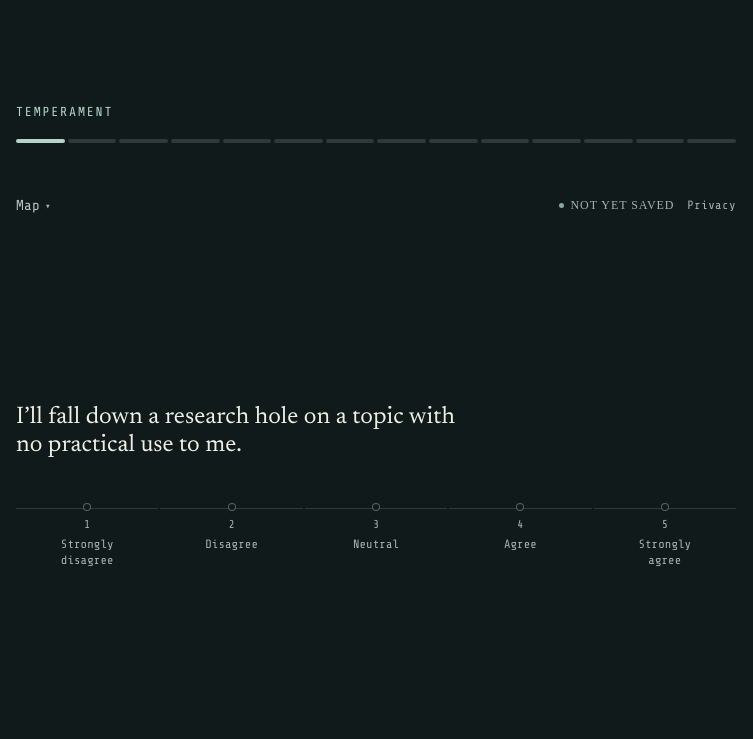
Test: tapping Next/Back › Next is disabled until the current item has an answer
Expected: the element named "I’ll fall down a research hole on a topic with no practical" is shown, [16, 508, 736, 578]
Click the radio button labelled "3 Neutral". click: [376, 542]
box: [305, 508, 447, 578]
(page scrolled)
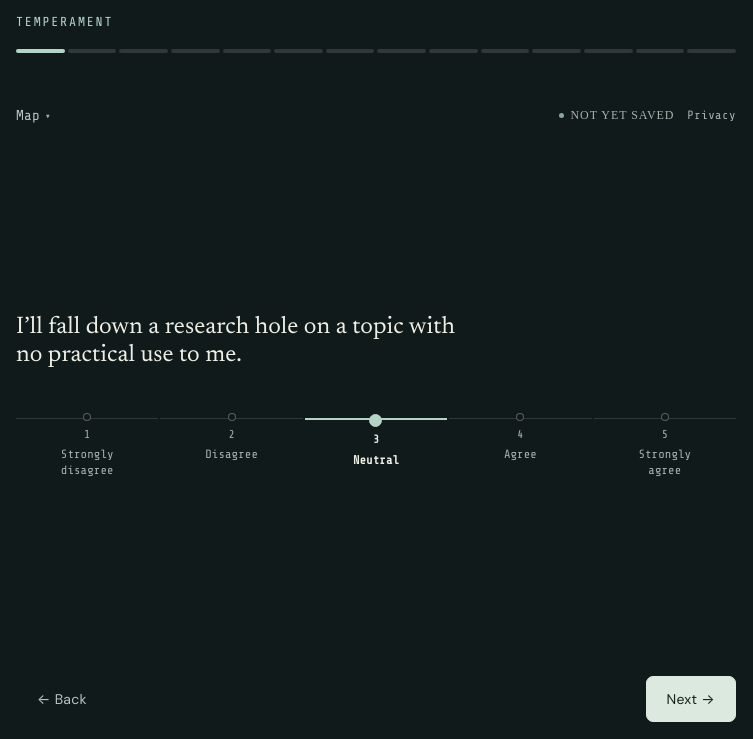
Now the button "Next →" is enabled, box [646, 676, 736, 722]
